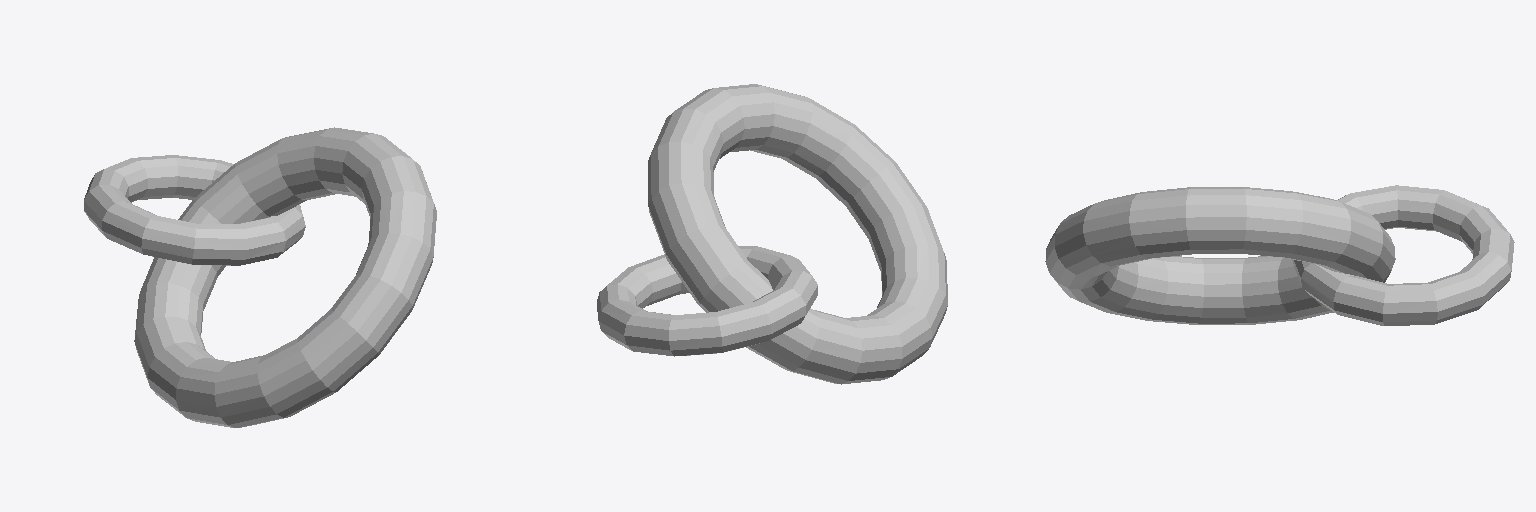
The model's file is Earring.obj.
3 renders of one model, left to right at view 1: azimuth 30°, elevation 25°; view 2: azimuth 150°, elevation 25°; view 3: azimuth 270°, elevation 25°, orthographic.
Visible parts, largest first — view 1: Group16973; view 2: Group16973; view 3: Group16973.
Boxes of the visible parts, box(x1,y1,x2,y2) form: Group16973: box(84, 127, 436, 427); Group16973: box(597, 84, 947, 384); Group16973: box(1045, 185, 1514, 325).
Size of the model in its own units: 0.1097 by 0.0956 by 0.1823.